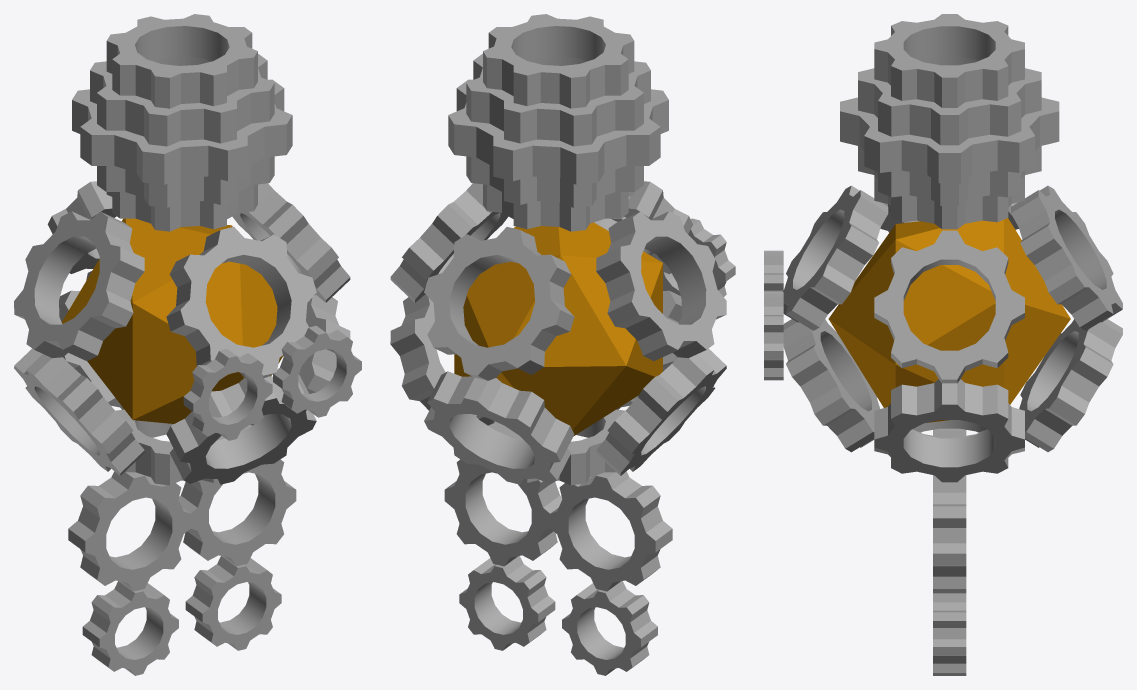
File: VenusSculpture.fbx
3 renders of one model, left to right at view 1: azimuth 30°, elevation 25°; view 2: azimuth 150°, elevation 25°; view 3: azimuth 270°, elevation 25°, orthographic.
Visible parts, largest first — view 1: pGear175; view 2: pGear175; view 3: pGear175.
Part boxes in pixels (box(x1,y1,x2,y2)): pGear175: box(14, 14, 361, 675); pGear175: box(390, 14, 735, 675); pGear175: box(764, 14, 1122, 675).
Size of the model in its own units: 41.37 by 79.39 by 42.86.
